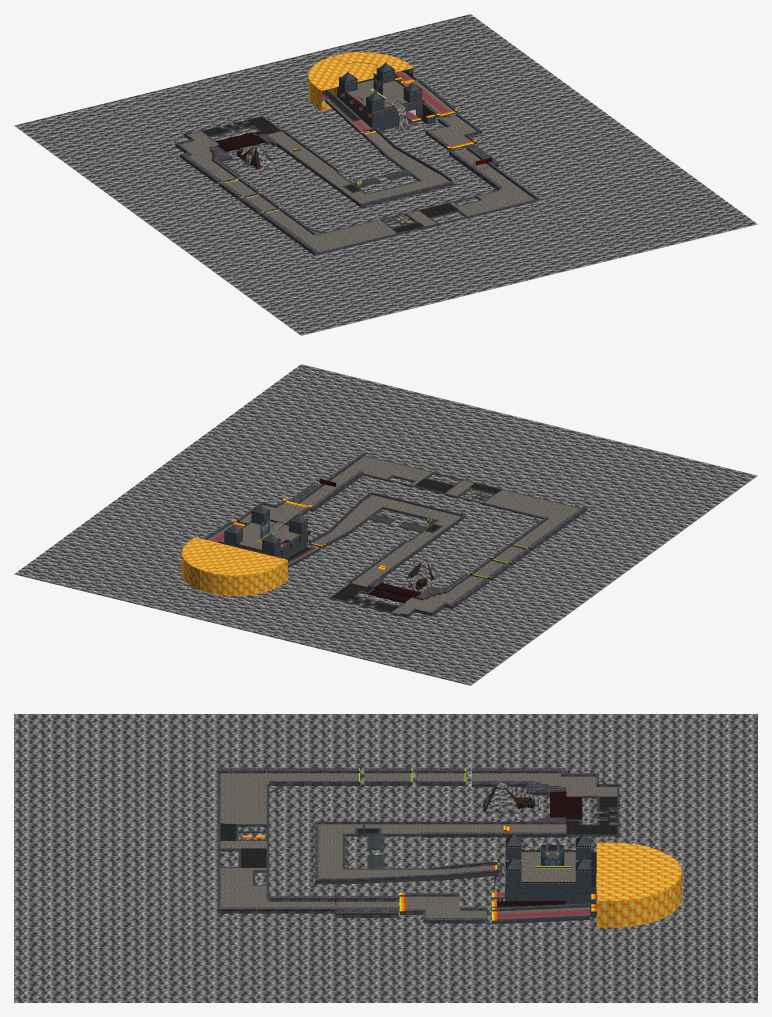
The picture shows the model from 3 angles, top to bottom: view 1: azimuth 30°, elevation 25°; view 2: azimuth 150°, elevation 25°; view 3: azimuth 270°, elevation 25°; orthographic projection. The views are drawn at different scales.
Parts seen in each view (by area): view 1: course_model_SKP__Lava, course_model_SKP__Road, course_model_SKP__Wall, course_model_SKP__Wall1, course_model_SKP__BowserCage, course_model_SKP__Danger, course_model_SKP__Grate, course_model_SKP__Material1, course_model_SKP__Bridge; view 2: course_model_SKP__Lava, course_model_SKP__Road, course_model_SKP__Wall, course_model_SKP__BowserCage, course_model_SKP__Danger, course_model_SKP__Wall1, course_model_SKP__Grate, course_model_SKP__Bridge, course_model_SKP__Material1; view 3: course_model_SKP__Lava, course_model_SKP__Road, course_model_SKP__Wall, course_model_SKP__BowserCage, course_model_SKP__Wall1, course_model_SKP__Danger, course_model_SKP__Grate, course_model_SKP__Bridge, course_model_SKP__Material1, course_model_SKP__Road3, course_model_SKP__bowser2.
Part boxes in pixels (left/top/right/bottom): course_model_SKP__Lava: left=14, top=14, right=757, bottom=335; course_model_SKP__Road: left=180, top=71, right=534, bottom=252; course_model_SKP__Wall: left=175, top=113, right=538, bottom=255; course_model_SKP__Wall1: left=321, top=56, right=458, bottom=132; course_model_SKP__BowserCage: left=308, top=52, right=413, bottom=111; course_model_SKP__Danger: left=192, top=73, right=535, bottom=253; course_model_SKP__Grate: left=202, top=75, right=459, bottom=233; course_model_SKP__Material1: left=236, top=100, right=408, bottom=168; course_model_SKP__Bridge: left=215, top=106, right=433, bottom=151; course_model_SKP__Lava: left=14, top=364, right=757, bottom=685; course_model_SKP__Road: left=207, top=456, right=579, bottom=614; course_model_SKP__Wall: left=237, top=452, right=587, bottom=617; course_model_SKP__BowserCage: left=181, top=537, right=287, bottom=596; course_model_SKP__Danger: left=284, top=455, right=580, bottom=614; course_model_SKP__Wall1: left=203, top=504, right=320, bottom=568; course_model_SKP__Grate: left=218, top=478, right=502, bottom=611; course_model_SKP__Bridge: left=368, top=582, right=421, bottom=603; course_model_SKP__Material1: left=270, top=522, right=440, bottom=590; course_model_SKP__Lava: left=14, top=714, right=757, bottom=1002; course_model_SKP__Road: left=220, top=773, right=617, bottom=918; course_model_SKP__Wall: left=217, top=768, right=618, bottom=923; course_model_SKP__BowserCage: left=596, top=842, right=681, bottom=927; course_model_SKP__Wall1: left=492, top=833, right=597, bottom=924; course_model_SKP__Danger: left=217, top=773, right=619, bottom=907; course_model_SKP__Grate: left=220, top=796, right=617, bottom=898; course_model_SKP__Bridge: left=497, top=791, right=582, bottom=906; course_model_SKP__Material1: left=482, top=781, right=542, bottom=899; course_model_SKP__Road3: left=497, top=909, right=589, bottom=918; course_model_SKP__bowser2: left=541, top=845, right=564, bottom=865.
Bounding box in the file's own units: 102327 × 9168 × 111419.
22 materials, 22 textured.
